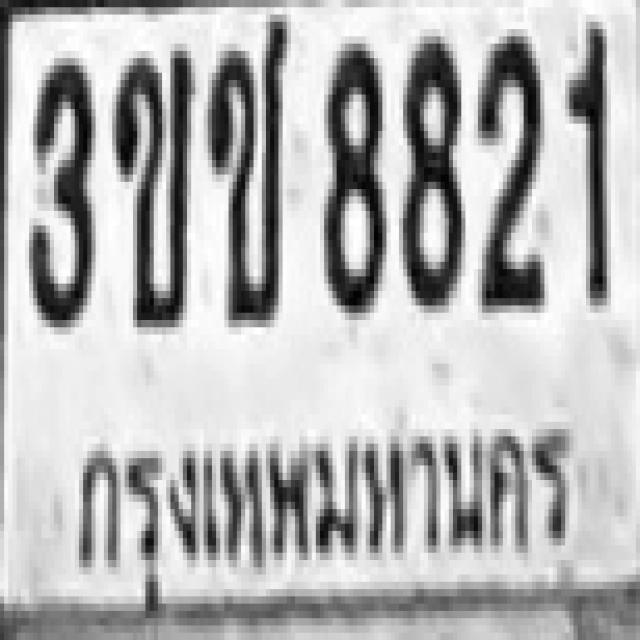1: (567, 18, 605, 302)
11KhorKhai: (112, 47, 191, 324)
19ChorChang: (204, 7, 286, 320)
2: (476, 25, 542, 302)
3: (25, 51, 91, 320)
8: (399, 29, 461, 306), (320, 37, 382, 306)
